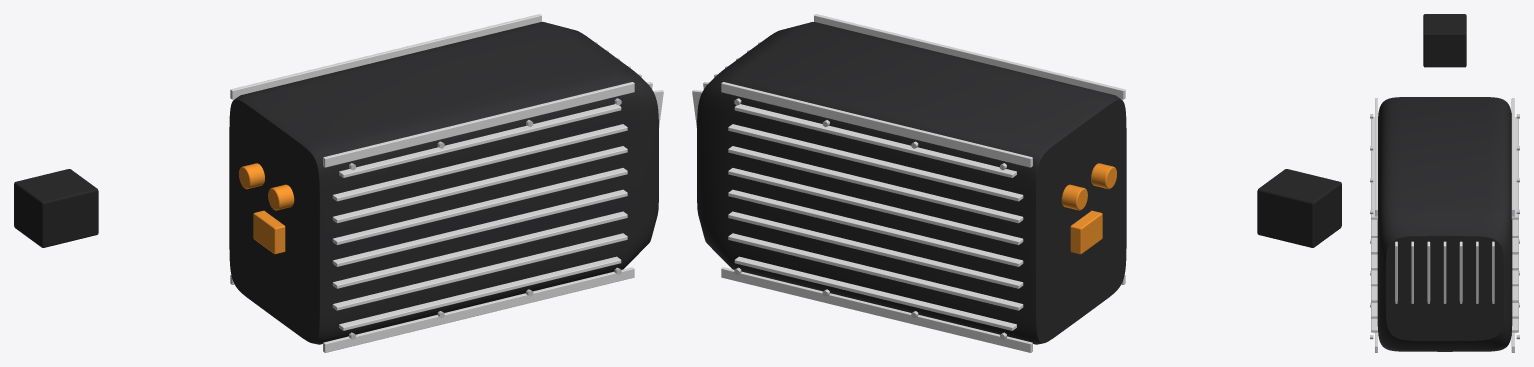
The model's file is bike_electric__battery.glb.
3 renders of one model, left to right at view 1: azimuth 30°, elevation 25°; view 2: azimuth 150°, elevation 25°; view 3: azimuth 270°, elevation 25°, orthographic. The views are drawn at different scales.
Visible parts, largest first — view 1: powertrain__traction_battery__case, powertrain__traction_battery__cooling_fins, electrical__aux_battery_12v, powertrain__traction_battery__hv_connectors; view 2: powertrain__traction_battery__case, powertrain__traction_battery__cooling_fins, electrical__aux_battery_12v, powertrain__traction_battery__hv_connectors; view 3: powertrain__traction_battery__case, powertrain__traction_battery__cooling_fins, electrical__aux_battery_12v, powertrain__traction_battery__bolts.
Part boxes in pixels (<box>): powertrain__traction_battery__case: <box>229,22,658,344</box>; powertrain__traction_battery__cooling_fins: <box>230,14,663,352</box>; electrical__aux_battery_12v: <box>14,169,98,247</box>; powertrain__traction_battery__hv_connectors: <box>239,163,294,254</box>; powertrain__traction_battery__case: <box>697,22,1126,344</box>; powertrain__traction_battery__cooling_fins: <box>692,14,1125,352</box>; electrical__aux_battery_12v: <box>1257,169,1341,247</box>; powertrain__traction_battery__hv_connectors: <box>1061,163,1116,254</box>; powertrain__traction_battery__case: <box>1377,97,1512,351</box>; powertrain__traction_battery__cooling_fins: <box>1371,98,1518,352</box>; electrical__aux_battery_12v: <box>1423,14,1466,67</box>; powertrain__traction_battery__bolts: <box>1370,114,1519,339</box>.
Size of the model in its own units: 95.27 by 30 by 27.8.
